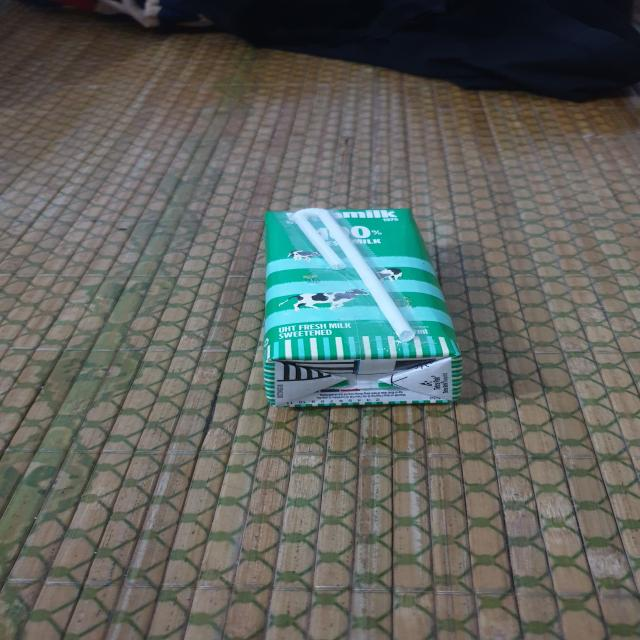Vina: (261, 198, 464, 417)
